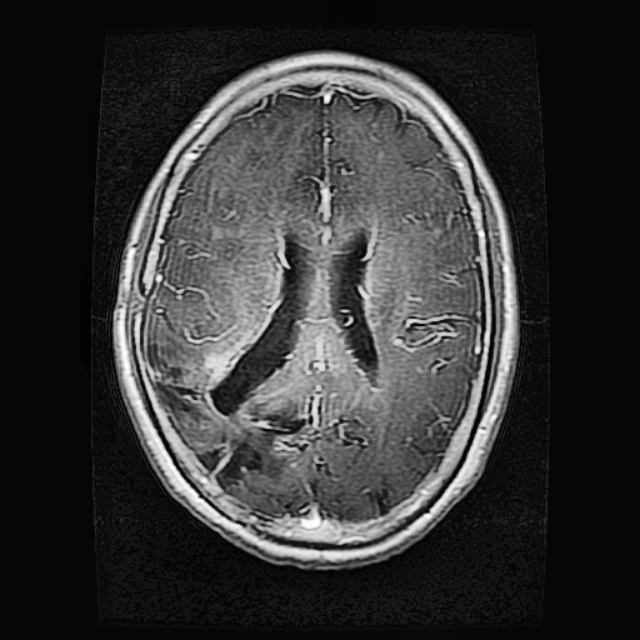Glioma: (148, 340, 304, 492)
